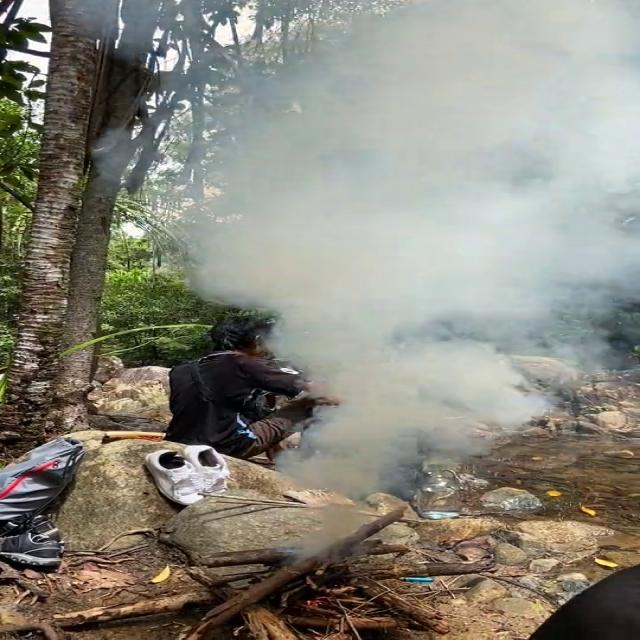smoke: (262, 48, 640, 282), (316, 288, 632, 364), (345, 1, 640, 78), (212, 147, 296, 300), (321, 375, 535, 421), (282, 316, 430, 368), (310, 428, 430, 479), (283, 456, 403, 494), (413, 408, 502, 450)
